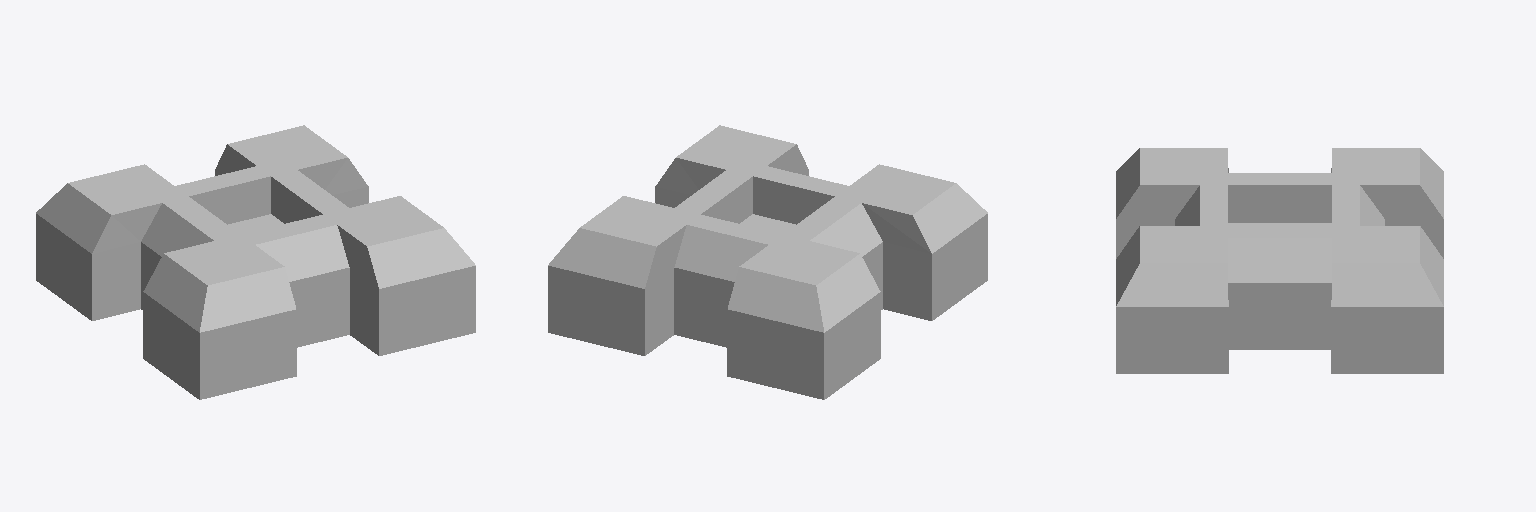
File: DropPod.obj
3 views of the same model, side by side, from view 1: azimuth 30°, elevation 25°; view 2: azimuth 150°, elevation 25°; view 3: azimuth 270°, elevation 25° (orthographic).
Bounding box in the file's own units: 12.53 × 4.38 × 12.85.